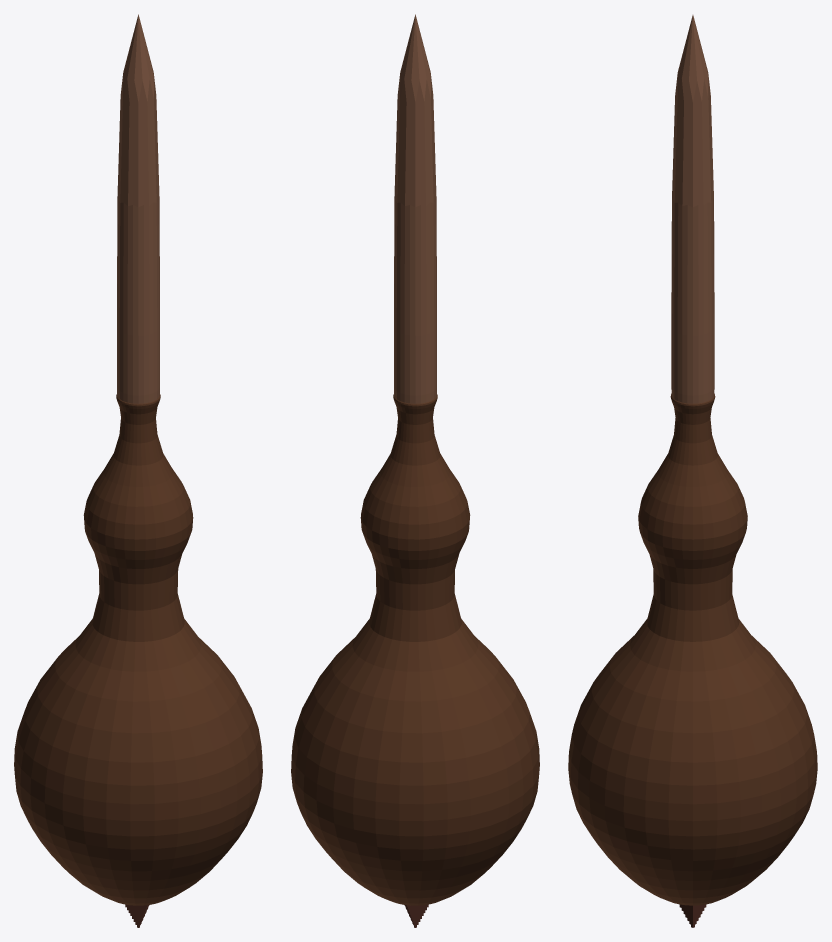
File: Wand 604.glb
The picture shows the model from 3 angles, left to right: view 1: azimuth 30°, elevation 25°; view 2: azimuth 150°, elevation 25°; view 3: azimuth 270°, elevation 25°; orthographic projection.
Visible parts, largest first — view 1: GeneratedWand; view 2: GeneratedWand; view 3: GeneratedWand.
Part boxes in pixels (<box>): GeneratedWand: <box>14,14,262,927</box>; GeneratedWand: <box>291,14,539,927</box>; GeneratedWand: <box>568,15,817,927</box>.
Bounding box in the file's own units: 0.123 × 0.4967 × 0.123.
